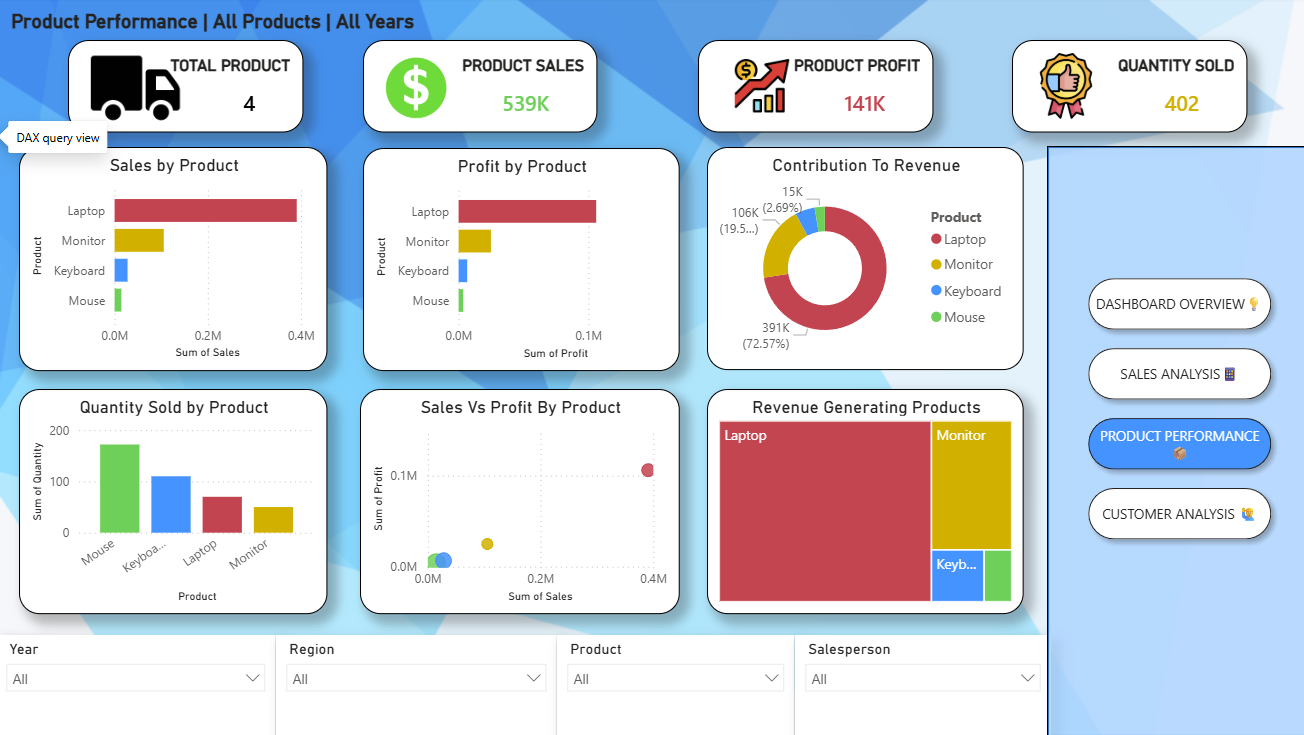

This screenshot's page, from the dashboard's own definition file:
{"tool":"powerbi","page":{"name":"PRODUCT PERFORMANCE 📦","canvas":[1280,720],"ordinal":2},"visuals":[{"type":"cardVisual","title":"TOTAL PRODUCT","fields":{"Data":["PRAVEENDATA(Sheet1).TOTAL PRODUCT"]},"box":[69.8,41.9,229.2,89.6],"z":0},{"type":"image","box":[62.8,44.2,145.5,88.4],"z":1000},{"type":"cardVisual","title":" PRODUCT SALES","fields":{"Data":["PRAVEENDATA(Sheet1).PRODUCT SALES"]},"box":[357.2,41.9,228.1,89.6],"z":2000},{"type":"image","box":[367.7,57,81.5,61.7],"z":3000},{"type":"cardVisual","title":" PRODUCT PROFIT","fields":{"Data":["PRAVEENDATA(Sheet1).PRODUCT PROFIT"]},"box":[683.1,41.9,229.2,89.6],"z":4000},{"type":"image","box":[691.2,60.5,107.1,52.4],"z":5000},{"type":"cardVisual","title":"QUANTITY SOLD","fields":{"Data":["PRAVEENDATA(Sheet1).TOTAL QUANTITY"]},"box":[987.9,41.9,229.2,89.6],"z":6000},{"type":"image","box":[1005.4,54.7,71,64],"z":7000},{"type":"clusteredBarChart","title":" Sales by Product","fields":{"Category":["PRAVEENDATA(Sheet1).Product"],"Y":["Sum(PRAVEENDATA(Sheet1).Sales)"]},"box":[22.1,145.5,300.2,217.6],"z":8000},{"type":"clusteredBarChart","title":" Profit by Product","fields":{"Category":["PRAVEENDATA(Sheet1).Product"],"Y":["Sum(PRAVEENDATA(Sheet1).Profit)"]},"box":[357,146.9,308.3,216.9],"z":9000},{"type":"columnChart","title":" Quantity Sold by Product","fields":{"Category":["PRAVEENDATA(Sheet1).Product"],"Y":["Sum(PRAVEENDATA(Sheet1).Quantity)"]},"box":[22.1,381.7,300.2,218.8],"z":10000},{"type":"donutChart","title":"Contribution To Revenue","fields":{"Category":["PRAVEENDATA(Sheet1).Product"],"Y":["Sum(PRAVEENDATA(Sheet1).Sales)"]},"box":[691.6,145.9,308.3,216.9],"z":11000},{"type":"scatterChart","title":"Sales Vs Profit By Product","fields":{"X":["Sum(PRAVEENDATA(Sheet1).Sales)"],"Y":["Sum(PRAVEENDATA(Sheet1).Profit)"],"Size":["Sum(PRAVEENDATA(Sheet1).Quantity)"],"Category":["PRAVEENDATA(Sheet1).Product"]},"box":[354,381.3,311.2,218.8],"z":12000},{"type":"treemap","title":"Revenue Generating Products","fields":{"Group":["PRAVEENDATA(Sheet1).Product"],"Values":["Sum(PRAVEENDATA(Sheet1).Sales)"]},"box":[691.6,381.3,308.3,218.8],"z":13000},{"type":"textbox","box":[9.7,11.7,423.1,76.8],"z":14000},{"type":"slicer","fields":{"Values":["PRAVEENDATA(Sheet1).Year"]},"box":[0,620.5,272.3,99.2],"z":15000},{"type":"slicer","fields":{"Values":["PRAVEENDATA(Sheet1).Region"]},"box":[272.3,620.5,273.3,99.2],"z":16000},{"type":"slicer","fields":{"Values":["PRAVEENDATA(Sheet1).Product"]},"box":[545.7,620.5,231.5,99.2],"z":17000},{"type":"slicer","fields":{"Values":["PRAVEENDATA(Sheet1).Salesperson"]},"box":[777.1,620.5,249,99.2],"z":18000},{"type":"shape","box":[1022.2,144.9,257.8,574.8],"z":19000},{"type":"pageNavigator","box":[1053.4,264.6,196.5,274.3],"z":20000}]}

Visuals, with their boxes on the page's 1280x720 design canvas (x1, y1, x2, y2). These are canvas units, not pixel positions in the 1304x735 screenshot, which may show the page scaled, cropped or inside an application window:
"TOTAL PRODUCT" cardVisual: bbox=(70, 42, 299, 132)
image: bbox=(63, 44, 208, 133)
" PRODUCT SALES" cardVisual: bbox=(357, 42, 585, 132)
image: bbox=(368, 57, 449, 119)
" PRODUCT PROFIT" cardVisual: bbox=(683, 42, 912, 132)
image: bbox=(691, 60, 798, 113)
"QUANTITY SOLD" cardVisual: bbox=(988, 42, 1217, 132)
image: bbox=(1005, 55, 1076, 119)
" Sales by Product" clusteredBarChart: bbox=(22, 146, 322, 363)
" Profit by Product" clusteredBarChart: bbox=(357, 147, 665, 364)
" Quantity Sold by Product" columnChart: bbox=(22, 382, 322, 600)
"Contribution To Revenue" donutChart: bbox=(692, 146, 1000, 363)
"Sales Vs Profit By Product" scatterChart: bbox=(354, 381, 665, 600)
"Revenue Generating Products" treemap: bbox=(692, 381, 1000, 600)
textbox: bbox=(10, 12, 433, 88)
slicer - PRAVEENDATA(Sheet1).Year: bbox=(0, 620, 272, 720)
slicer - PRAVEENDATA(Sheet1).Region: bbox=(272, 620, 546, 720)
slicer - PRAVEENDATA(Sheet1).Product: bbox=(546, 620, 777, 720)
slicer - PRAVEENDATA(Sheet1).Salesperson: bbox=(777, 620, 1026, 720)
shape: bbox=(1022, 145, 1280, 720)
pageNavigator: bbox=(1053, 265, 1250, 539)
